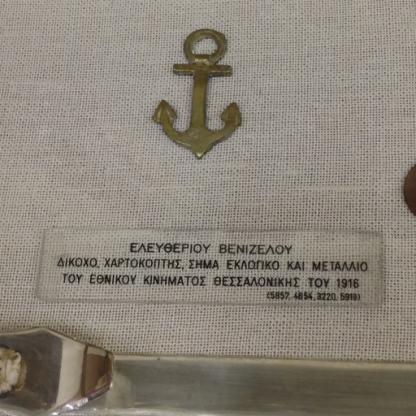knife: (0, 321, 415, 415)
